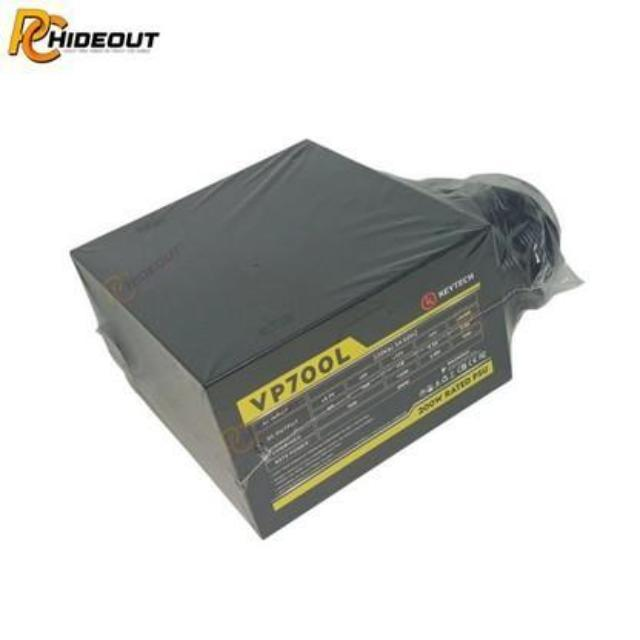PSU: (63, 120, 526, 551)
